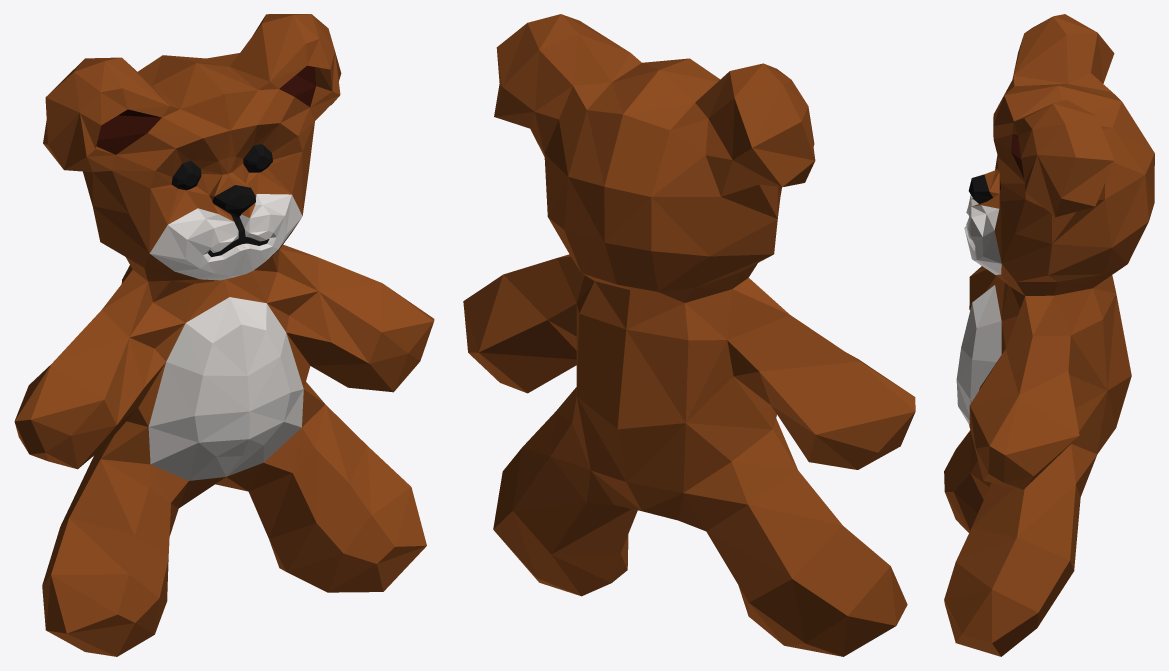
Rendered from Bear.FBX.
The picture shows the model from 3 angles, left to right: view 1: azimuth 30°, elevation 25°; view 2: azimuth 150°, elevation 25°; view 3: azimuth 270°, elevation 25°; orthographic projection. The views are drawn at different scales.
Visible parts, largest first — view 1: Bear; view 2: Bear; view 3: Bear.
Part boxes in pixels (bbox=[...]): Bear: bbox=[14, 14, 434, 656]; Bear: bbox=[463, 14, 915, 656]; Bear: bbox=[944, 14, 1154, 656].
Size of the model in its own units: 0.2428 by 0.1111 by 0.3091.
